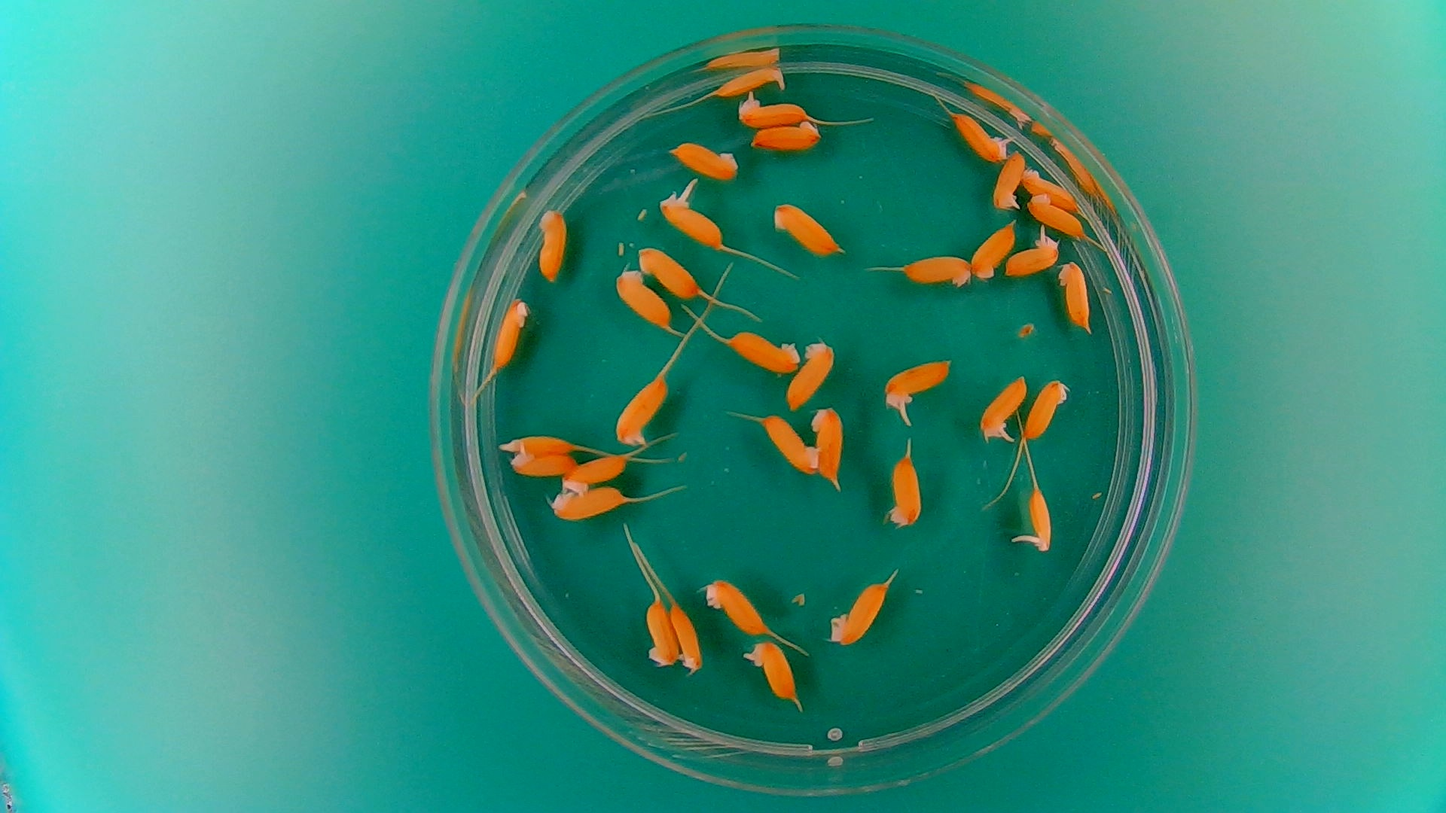no: (826, 574, 893, 647), (768, 198, 843, 258), (613, 373, 670, 449), (612, 267, 674, 332), (785, 335, 837, 412), (702, 575, 768, 635), (635, 244, 704, 300), (758, 413, 819, 476), (489, 294, 533, 372), (810, 404, 849, 489), (725, 330, 801, 373), (559, 450, 630, 495), (1023, 376, 1072, 441), (884, 452, 924, 531), (667, 138, 740, 180), (1021, 193, 1087, 238), (548, 484, 627, 521), (535, 202, 570, 285), (898, 251, 974, 289), (1056, 258, 1093, 333), (642, 595, 680, 668), (969, 221, 1016, 280), (1020, 164, 1081, 209), (669, 601, 704, 674), (495, 431, 580, 459), (749, 120, 823, 152)
yes: (656, 195, 730, 251), (880, 360, 956, 410), (948, 109, 1012, 164), (980, 380, 1030, 446), (1002, 229, 1063, 279), (709, 61, 788, 97), (752, 640, 796, 703), (734, 93, 810, 128), (508, 443, 582, 478), (990, 148, 1027, 212), (1026, 483, 1057, 555)
